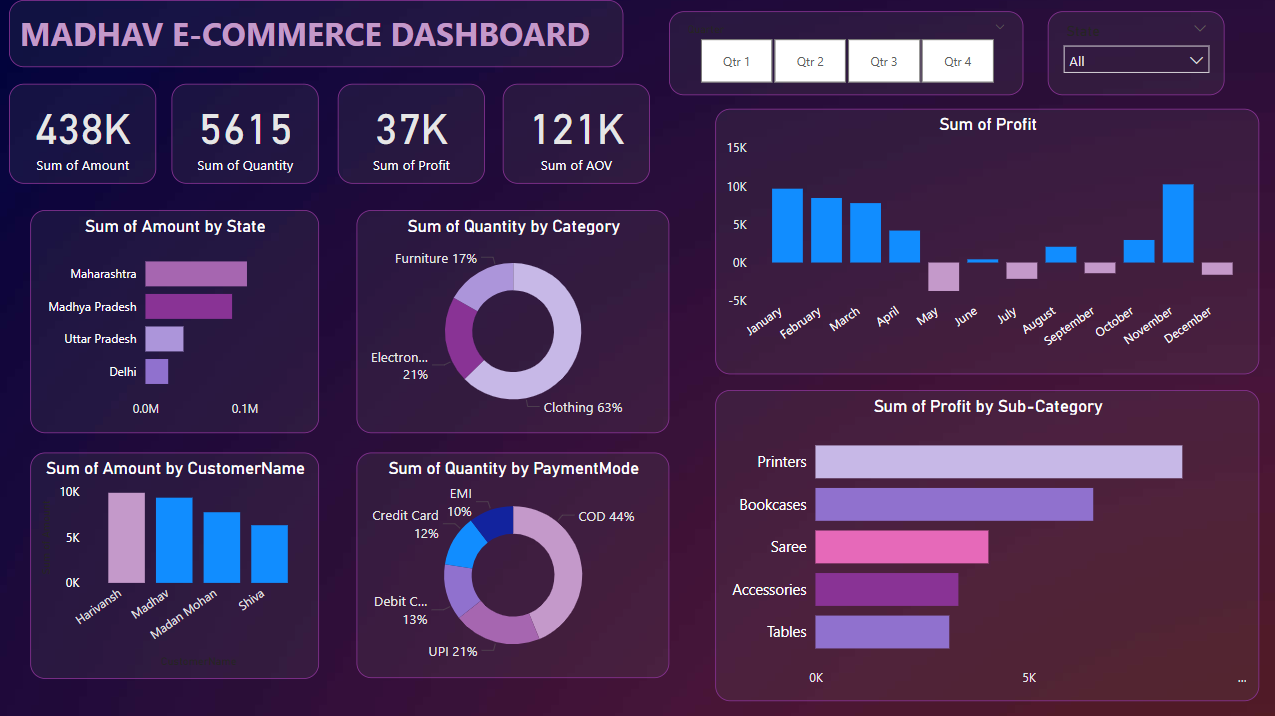

The dashboard page shown, as its layout file describes it:
{"tool":"powerbi","page":{"name":"Page 1","canvas":[1280,720],"ordinal":0},"visuals":[{"type":"textbox","box":[10,0,614.3,67.1],"z":0},{"type":"columnChart","title":"Sum of Profit","fields":{"Category":["Orders.Order Date.Variation.Date Hierarchy.Month"],"Y":["Details.Profit"]},"box":[715.7,108.6,544.3,265.7],"z":1000},{"type":"barChart","fields":{"Category":["Details.Sub-Category"],"Y":["Details.Profit"]},"box":[715.7,390,544.3,311.4],"z":2000},{"type":"donutChart","fields":{"Category":["Details.Category"],"Y":["Details.Quantity"]},"box":[357.1,210,312.9,222.9],"z":3000},{"type":"donutChart","fields":{"Category":["Details.PaymentMode"],"Y":["Details.Quantity"]},"box":[357.1,452.9,312.9,225.7],"z":4000},{"type":"card","fields":{"Values":["Details.Amount"]},"box":[10,84.3,147.1,100],"z":5000},{"type":"card","fields":{"Values":["Details.Quantity"]},"box":[172.9,84.3,147.1,100],"z":6000},{"type":"card","fields":{"Values":["Details.Profit"]},"box":[338.6,84.3,147.1,100],"z":7000},{"type":"card","fields":{"Values":["Details.AOV"]},"box":[504.3,84.3,147.1,100],"z":8000},{"type":"barChart","fields":{"Category":["Orders.State"],"Y":["Details.Amount"]},"box":[31.4,210,288.6,222.9],"z":9000},{"type":"columnChart","fields":{"Category":["Orders.CustomerName"],"Y":["Details.Amount"]},"box":[31,453,289,226],"z":10000},{"type":"slicer","fields":{"Values":["Orders.Order Date.Variation.Date Hierarchy.Quarter"]},"box":[670,11.4,354.3,84.3],"z":11000},{"type":"slicer","fields":{"Values":["Orders.State"]},"box":[1048.6,11.4,177.1,84.3],"z":12000}]}

Visuals, with their boxes in screenshot pixels (x1, y1, x2, y2), scaled from the page's 1280x720 canvas onto the 1275x716 screenshot:
textbox: {"left": 10, "top": 0, "right": 622, "bottom": 67}
"Sum of Profit" columnChart: {"left": 713, "top": 108, "right": 1255, "bottom": 372}
barChart - Details.Sub-Category x Details.Profit: {"left": 713, "top": 388, "right": 1255, "bottom": 698}
donutChart - Details.Category x Details.Quantity: {"left": 356, "top": 209, "right": 667, "bottom": 430}
donutChart - Details.PaymentMode x Details.Quantity: {"left": 356, "top": 450, "right": 667, "bottom": 675}
card - Details.Amount: {"left": 10, "top": 84, "right": 156, "bottom": 183}
card - Details.Quantity: {"left": 172, "top": 84, "right": 319, "bottom": 183}
card - Details.Profit: {"left": 337, "top": 84, "right": 484, "bottom": 183}
card - Details.AOV: {"left": 502, "top": 84, "right": 649, "bottom": 183}
barChart - Orders.State x Details.Amount: {"left": 31, "top": 209, "right": 319, "bottom": 430}
columnChart - Orders.CustomerName x Details.Amount: {"left": 31, "top": 450, "right": 319, "bottom": 675}
slicer - Orders.Order Date.Variation.Date Hierarchy.Quarter: {"left": 667, "top": 11, "right": 1020, "bottom": 95}
slicer - Orders.State: {"left": 1045, "top": 11, "right": 1221, "bottom": 95}
